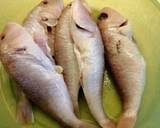Ikan Kerisi: (1, 18, 75, 128), (98, 6, 151, 128)
